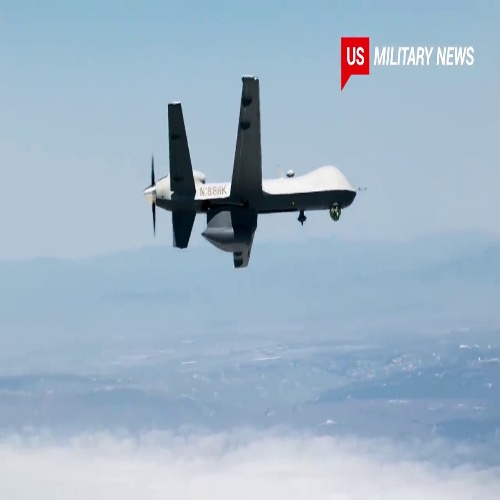uav189: (145, 71, 356, 274)
